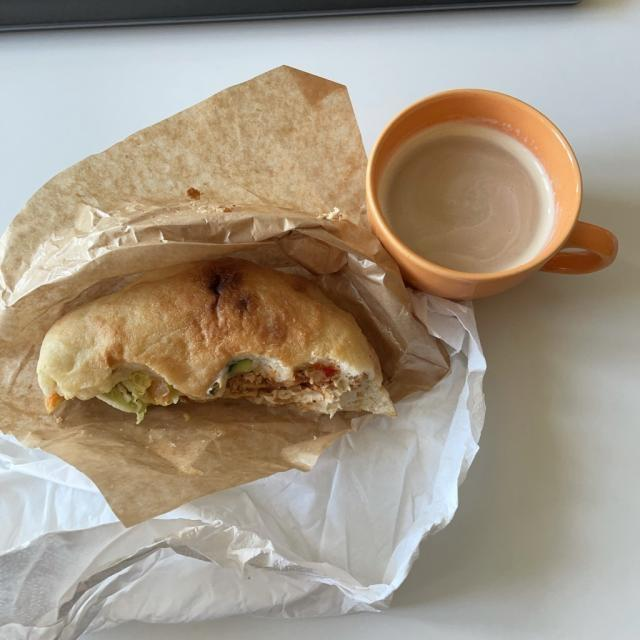coffee: (388, 122, 541, 269)
